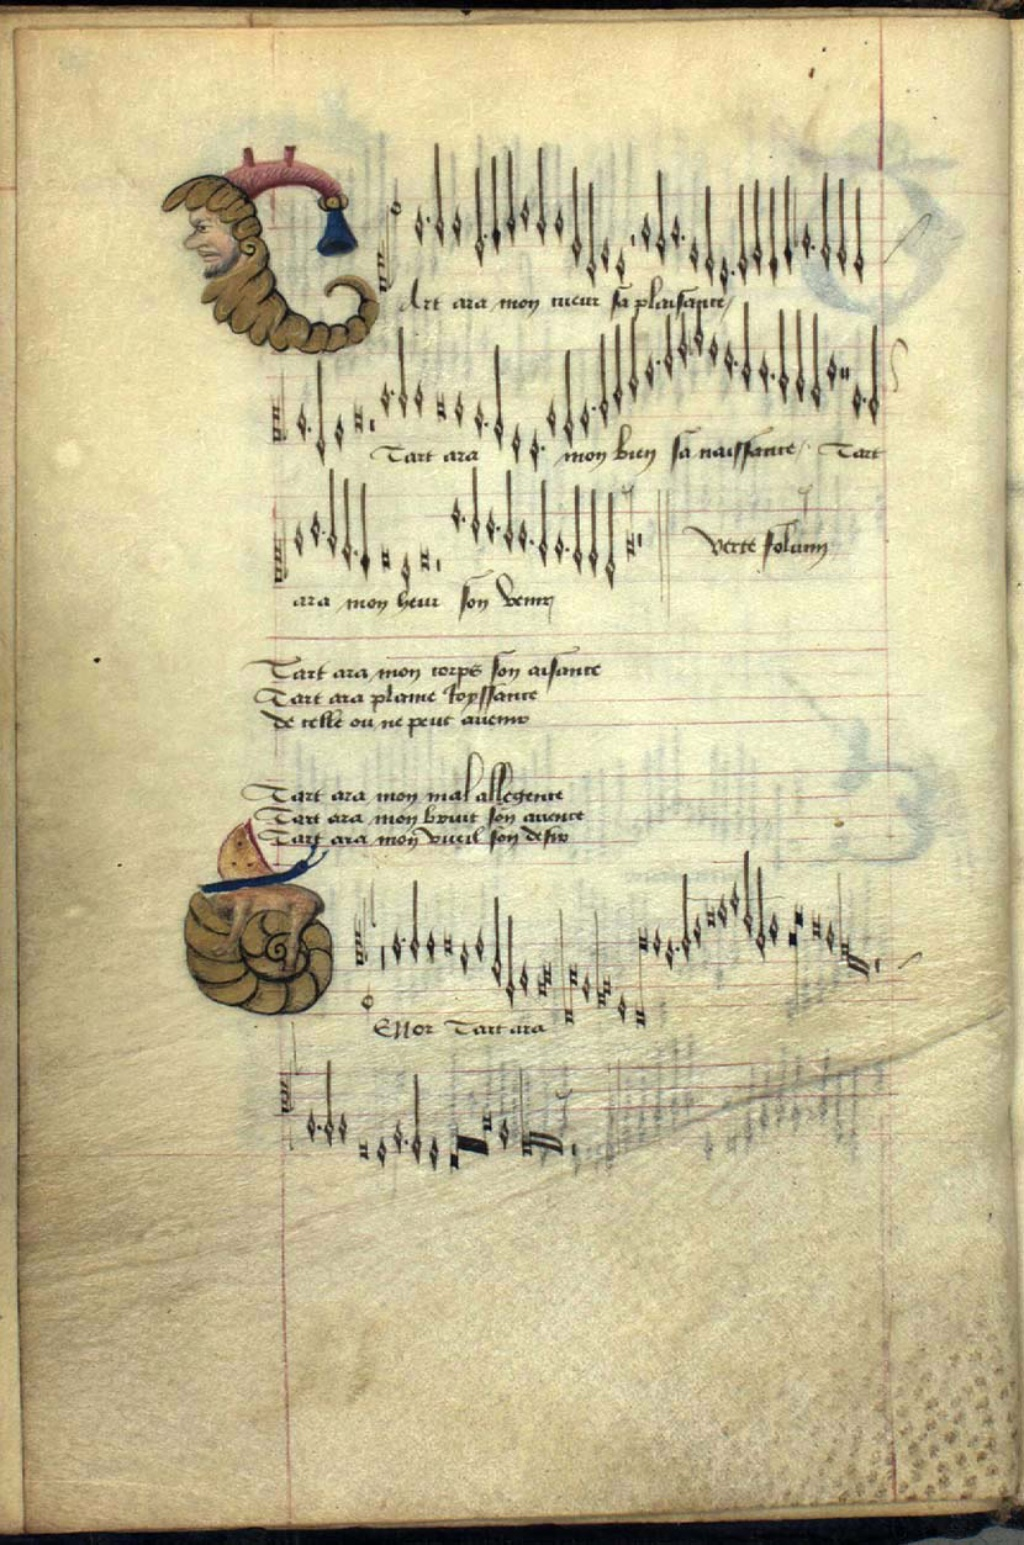breve_8: (427, 389, 451, 429)
breve_9: (347, 401, 368, 438)
c clef_9: (267, 397, 283, 450)
custos_7: (878, 339, 911, 403)
flat_10: (280, 379, 293, 440)
minim_10: (490, 345, 510, 456), (558, 350, 578, 446)
minim_11: (312, 359, 331, 472)
minim_2: (690, 302, 709, 359)
minim_3: (673, 311, 690, 365)
minim_4: (661, 312, 677, 381)
minim_5: (738, 307, 755, 397)
minim_6: (791, 302, 809, 410), (773, 307, 792, 409), (624, 317, 643, 401)
minim_7: (808, 307, 826, 422), (608, 322, 626, 413), (395, 328, 413, 423)
minim_8: (866, 320, 883, 437), (593, 335, 613, 432)
point: (651, 351, 667, 374), (385, 381, 400, 405), (763, 365, 779, 386), (479, 415, 494, 437), (586, 399, 601, 419), (857, 390, 871, 411), (729, 353, 743, 374), (536, 439, 549, 457), (304, 421, 317, 437)
semibreve rest: (368, 347, 381, 447), (843, 325, 853, 421), (839, 330, 847, 426)
semibreve_10: (330, 415, 349, 456)
semibreve_12: (509, 422, 527, 465), (525, 429, 542, 472)
semibreve_3: (707, 330, 722, 370)
semibreve_4: (719, 338, 735, 383)
semibreve_5: (641, 353, 659, 397), (823, 349, 840, 391), (755, 349, 769, 394)
semibreve_7: (411, 378, 430, 418), (376, 384, 392, 422)
semibreve_8: (846, 378, 864, 423), (451, 389, 469, 431)
semibreve_9: (542, 397, 562, 437), (469, 397, 485, 445), (577, 403, 594, 441), (293, 405, 309, 441)
